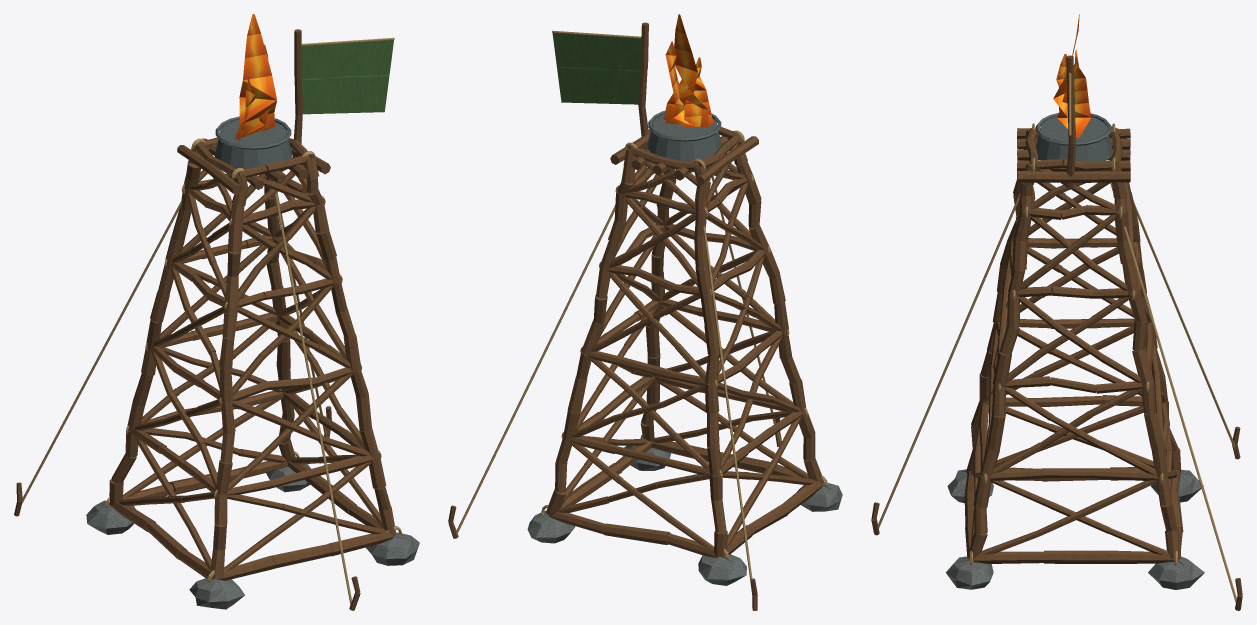
Rendered from cs-014_signal_beacon_lit_active.obj.
3 renders of one model, left to right at view 1: azimuth 30°, elevation 25°; view 2: azimuth 150°, elevation 25°; view 3: azimuth 270°, elevation 25°, orthographic. The views are drawn at different scales.
Visible parts, largest first — view 1: cs-014_signal_beacon_lit_active; view 2: cs-014_signal_beacon_lit_active; view 3: cs-014_signal_beacon_lit_active.
Boxes of the visible parts, box(x1,y1,x2,y2) form: cs-014_signal_beacon_lit_active: box(14, 14, 419, 610); cs-014_signal_beacon_lit_active: box(448, 14, 842, 610); cs-014_signal_beacon_lit_active: box(871, 14, 1242, 610).
Size of the model in its own units: 2.01 by 3.21 by 2.04.
6 materials, 6 textured.
